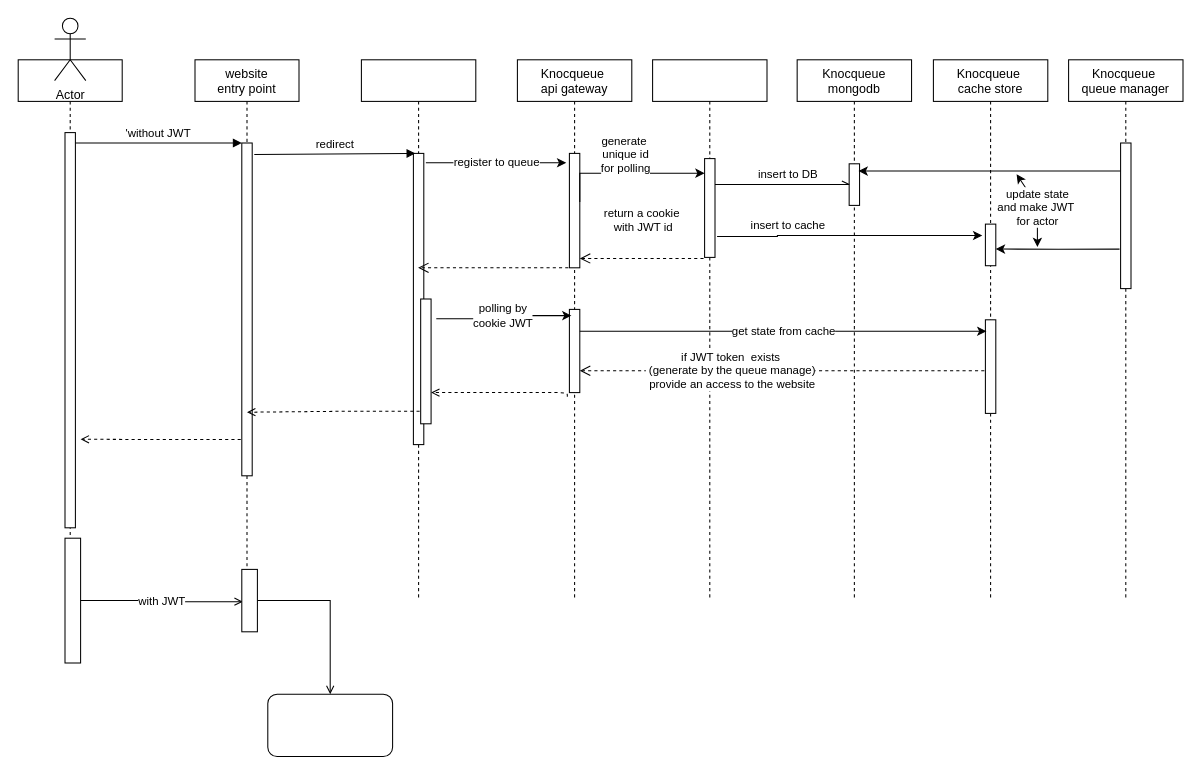
The diagram is 1201 pixels wide and 775 high, and some of its shapes have lost their labels. The shapes that lost their labels are listed below. From the top down, each one's box as (x1, y1, x2, y2) in pixels, then its label:
(360, 59, 476, 601): Knocqueue landing page
(652, 59, 767, 601): knocqueue unique id generator
(267, 693, 393, 757): decrypt with a public key
